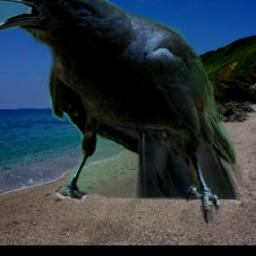Crow: (0, 0, 245, 223)
